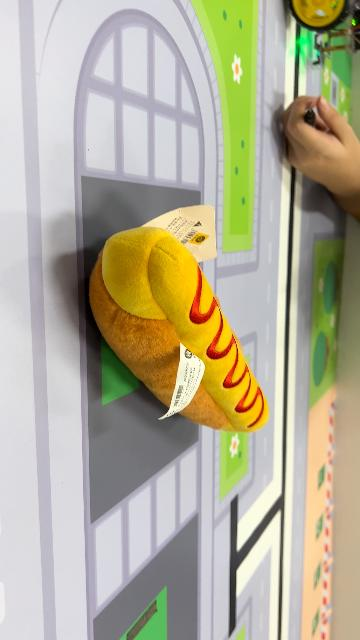hotdog: (88, 225, 272, 435)
